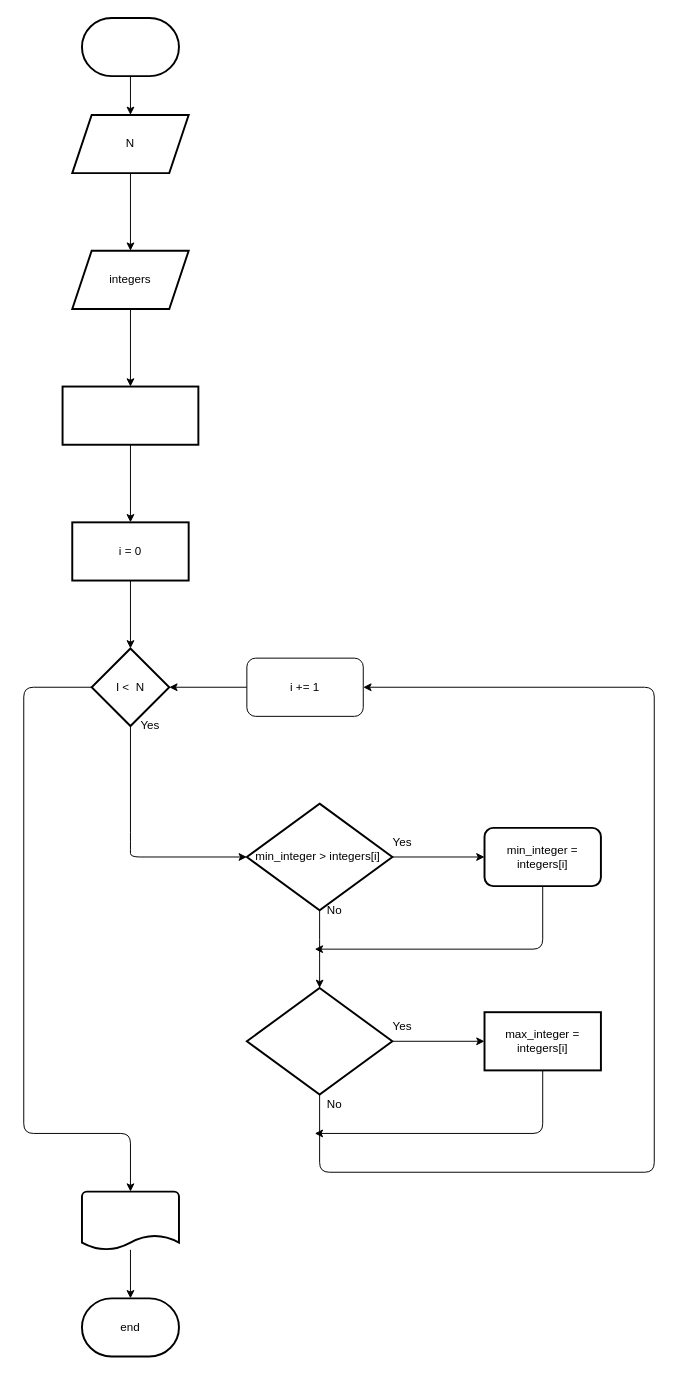
Image size: 679x1374. Some labels were removed from this diagram. Here are the shapes that lost their labels. From the top down, the centre of each, then its label:
point 130,46: start
point 130,415: min_integer = 1000000 max_integer = -1000000
point 319,1040: max_integer < integers[i]
point 130,1220: min_integer max_integer
